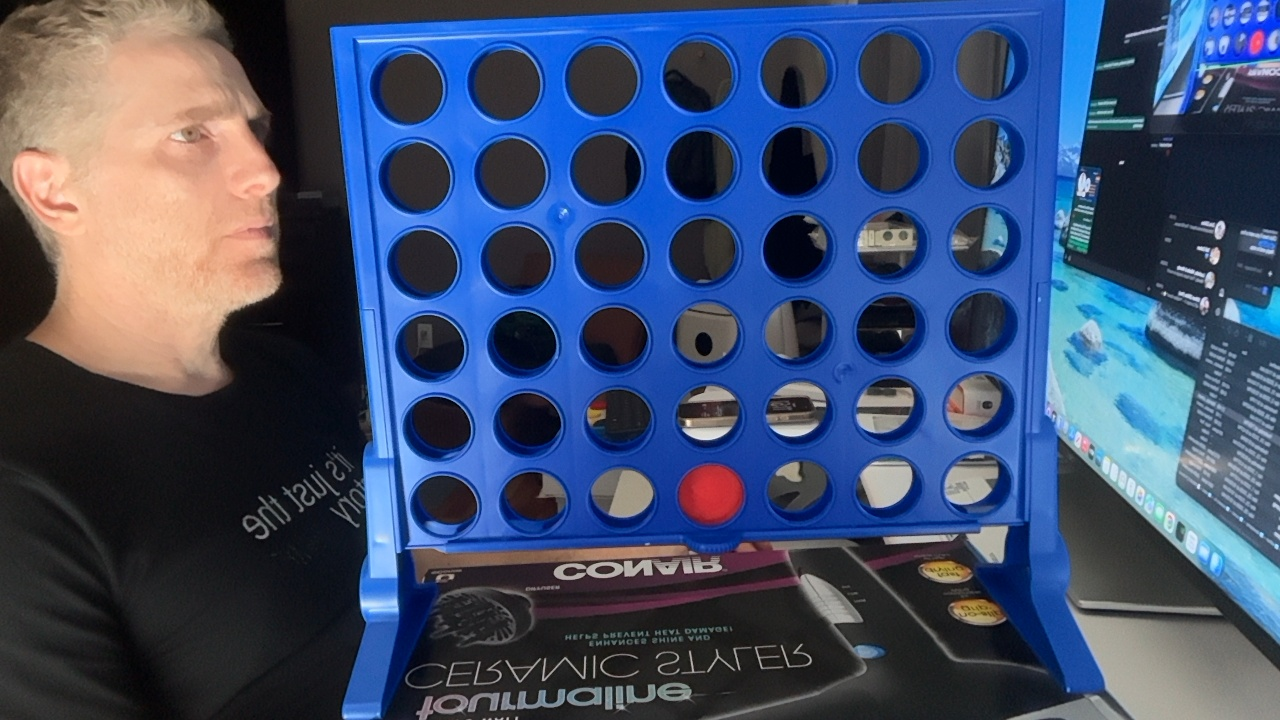red piece: (677, 464, 744, 525)
